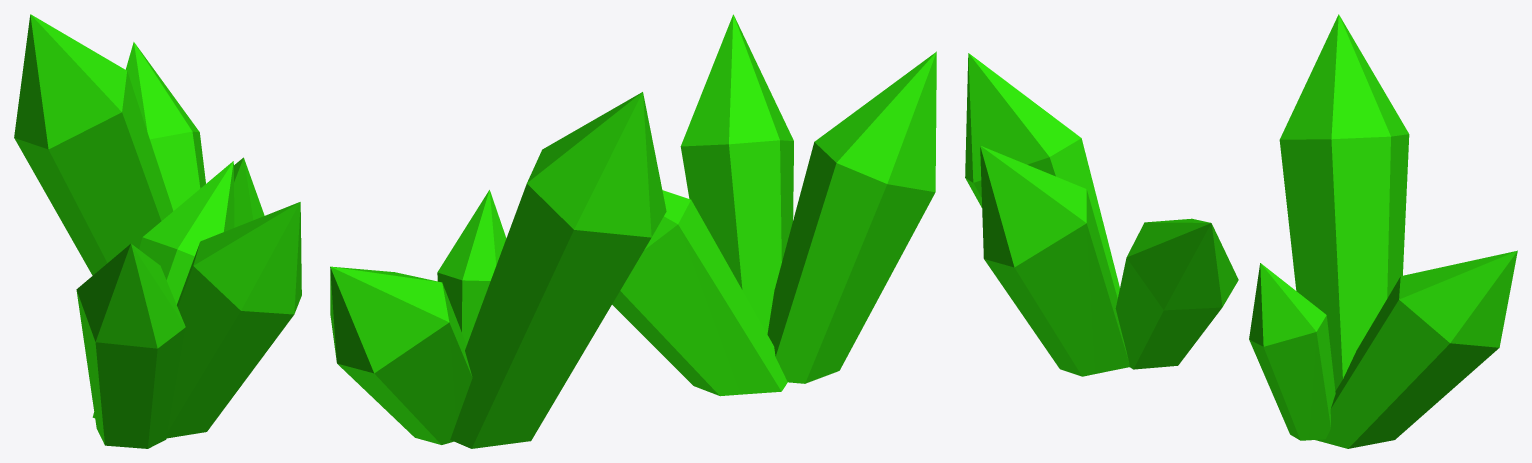
File: cave_crystal4.glb
3 views of the same model, side by side, from view 1: azimuth 30°, elevation 25°; view 2: azimuth 150°, elevation 25°; view 3: azimuth 270°, elevation 25° (orthographic). The views are drawn at different scales.
Visible parts, largest first — view 1: Crystal-04-col; view 2: Crystal-04-col; view 3: Crystal-04-col.
Part boxes in pixels (x1,y1,x2,y2): Crystal-04-col: (14, 14, 301, 448); Crystal-04-col: (330, 14, 936, 448); Crystal-04-col: (965, 14, 1517, 448).
Bounding box in the file's own units: 1.14 × 1.12 × 1.66.
